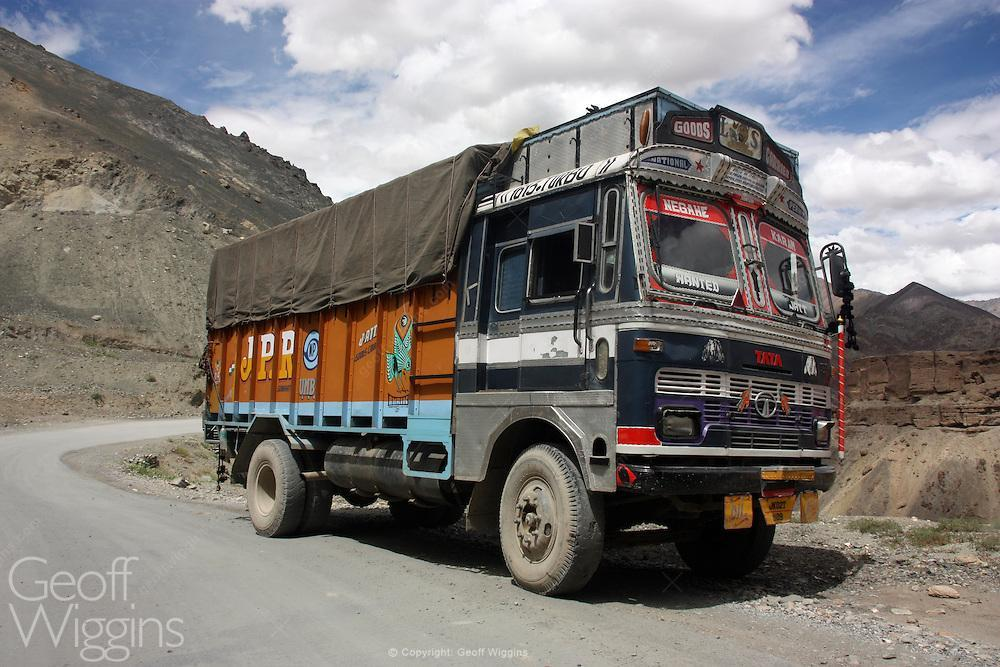truck: (208, 104, 871, 667)
